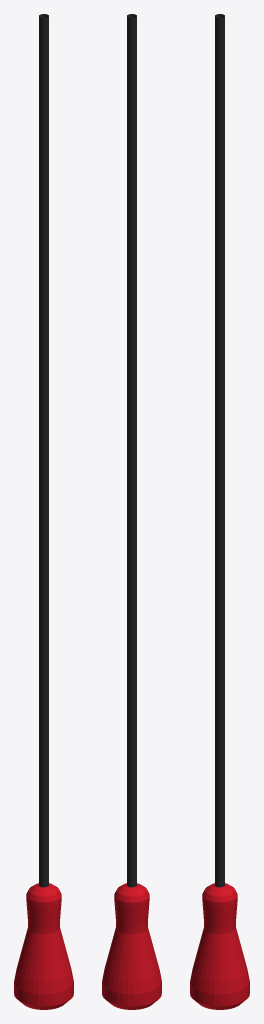
The model's file is lever.fbx.
3 views of the same model, side by side, from view 1: azimuth 90°, elevation 25°; view 2: azimuth 150°, elevation 25°; view 3: azimuth 270°, elevation 25° (orthographic).
Parts seen in each view (by area): view 1: Cylinder; view 2: Cylinder; view 3: Cylinder.
Part boxes in pixels (left/top/right/bottom): Cylinder: left=14, top=14, right=73, bottom=1009; Cylinder: left=102, top=14, right=161, bottom=1009; Cylinder: left=190, top=14, right=249, bottom=1009.
Size of the model in its own units: 200 by 3643 by 200.
